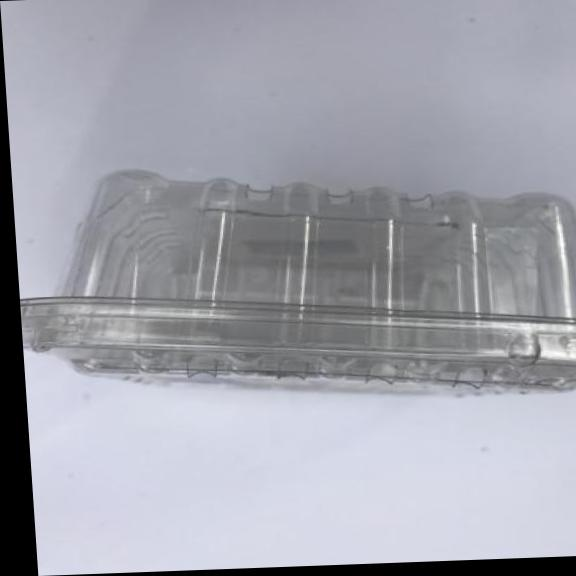Plastik: (11, 148, 576, 418)
